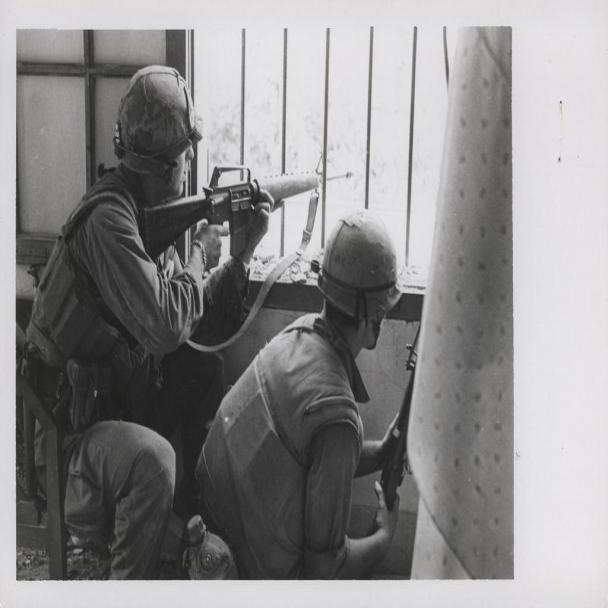Gun: (141, 160, 333, 252)
